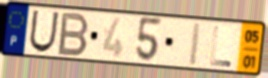4: (100, 16, 127, 60)
5: (134, 15, 165, 65)
B: (55, 11, 91, 58)
I: (186, 21, 204, 68)
L: (208, 25, 233, 69)
U: (27, 8, 61, 54)
